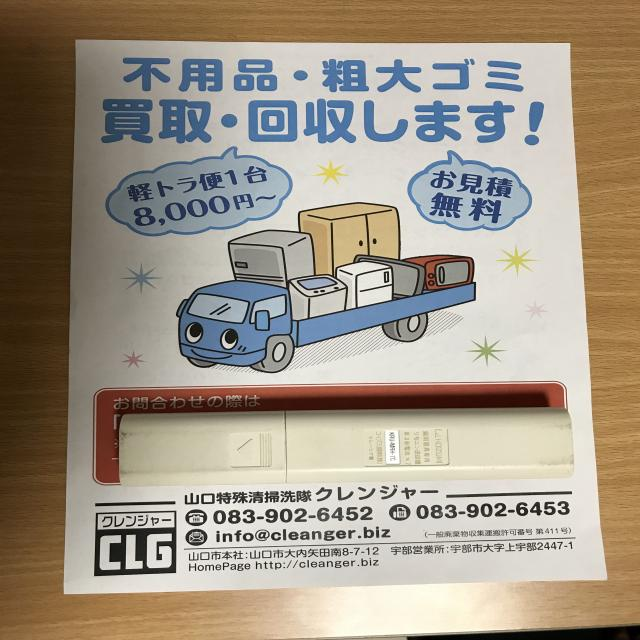paper: (66, 38, 612, 590)
